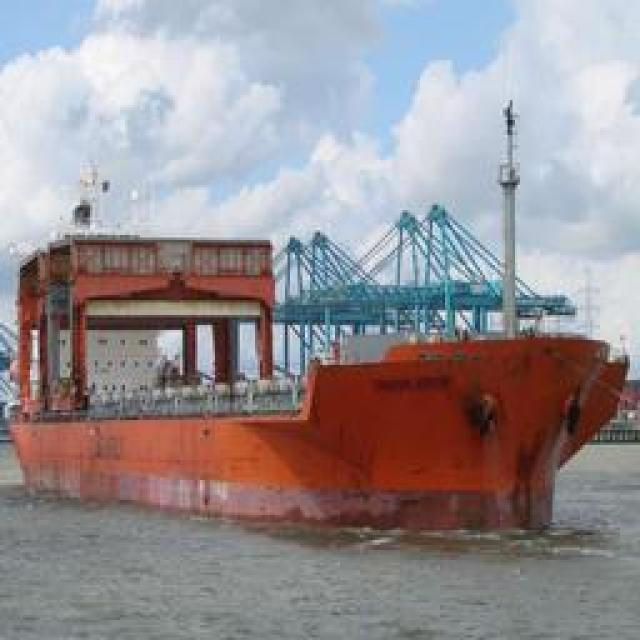CIV_Ship: (56, 332, 629, 536)
